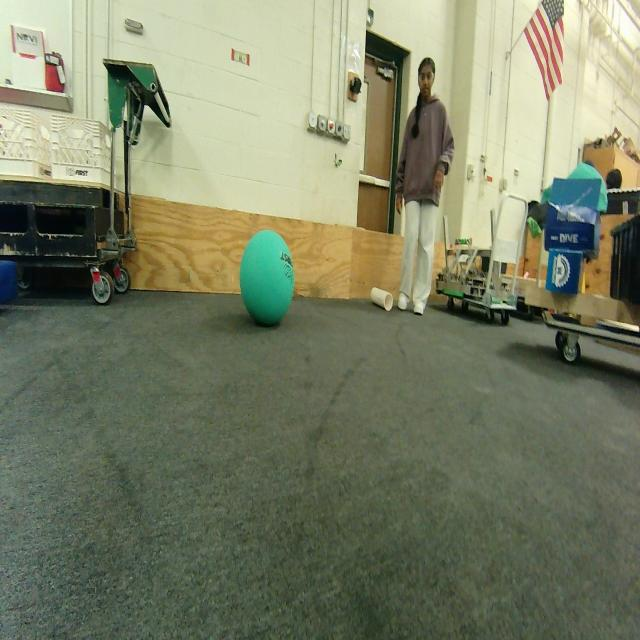algae: (239, 230, 294, 326)
